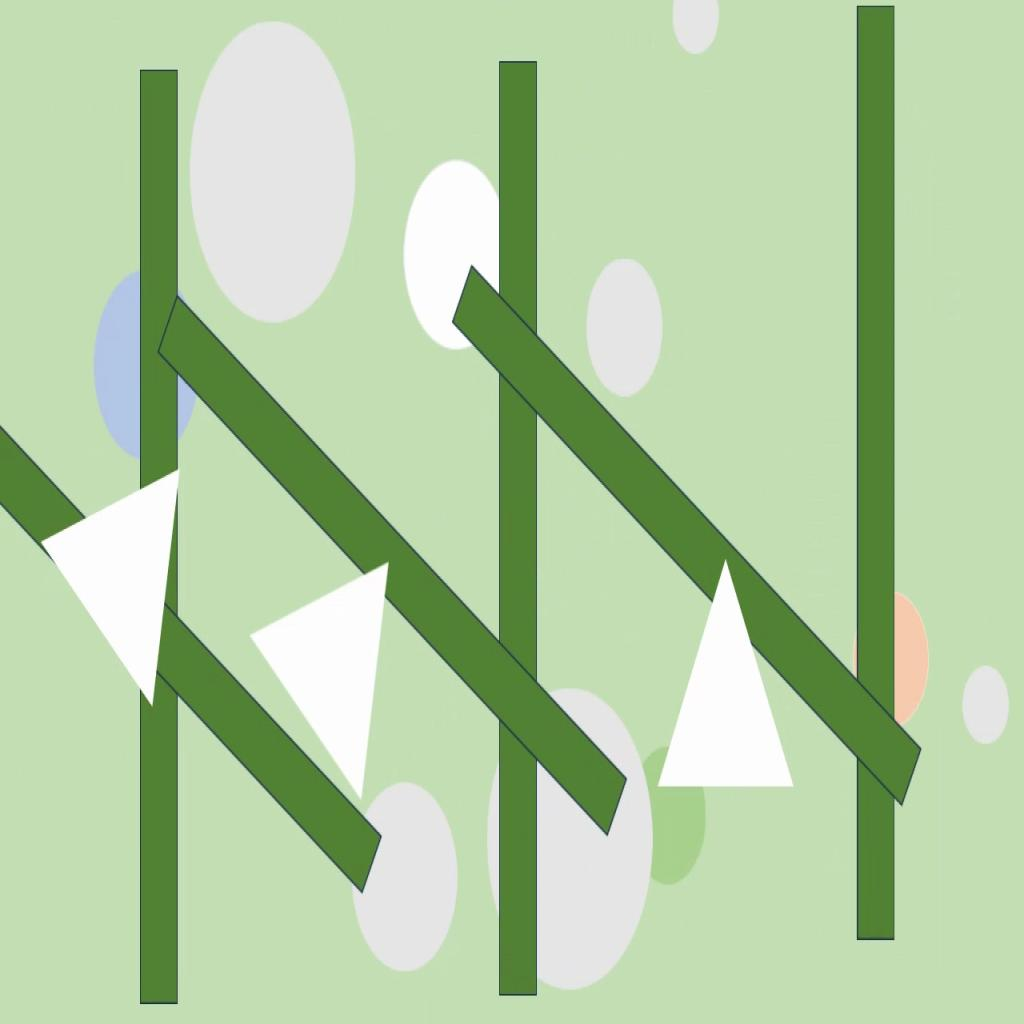Circle: (484, 683, 655, 991), (188, 18, 357, 325), (353, 782, 460, 974), (405, 160, 512, 351), (94, 270, 202, 454), (584, 256, 664, 397), (629, 748, 707, 889), (851, 592, 930, 726), (962, 663, 1011, 746), (673, 0, 722, 59)
